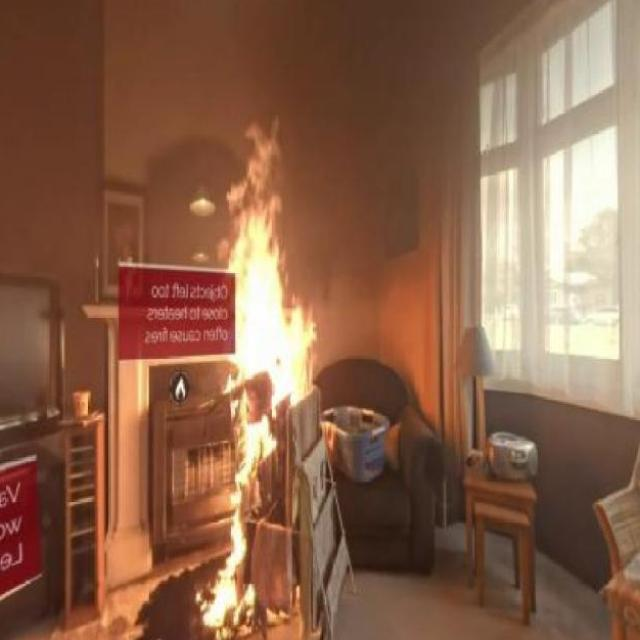smoke: (228, 146, 315, 422), (202, 426, 279, 628)
